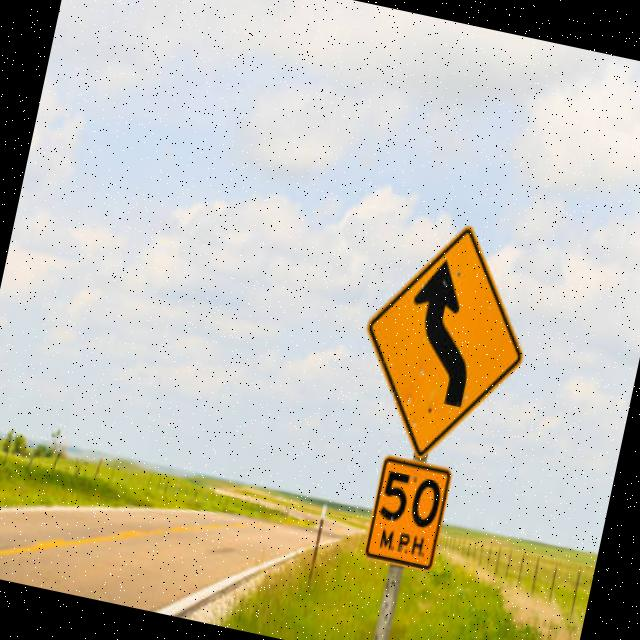left_sharp_curve: (334, 206, 552, 469)
